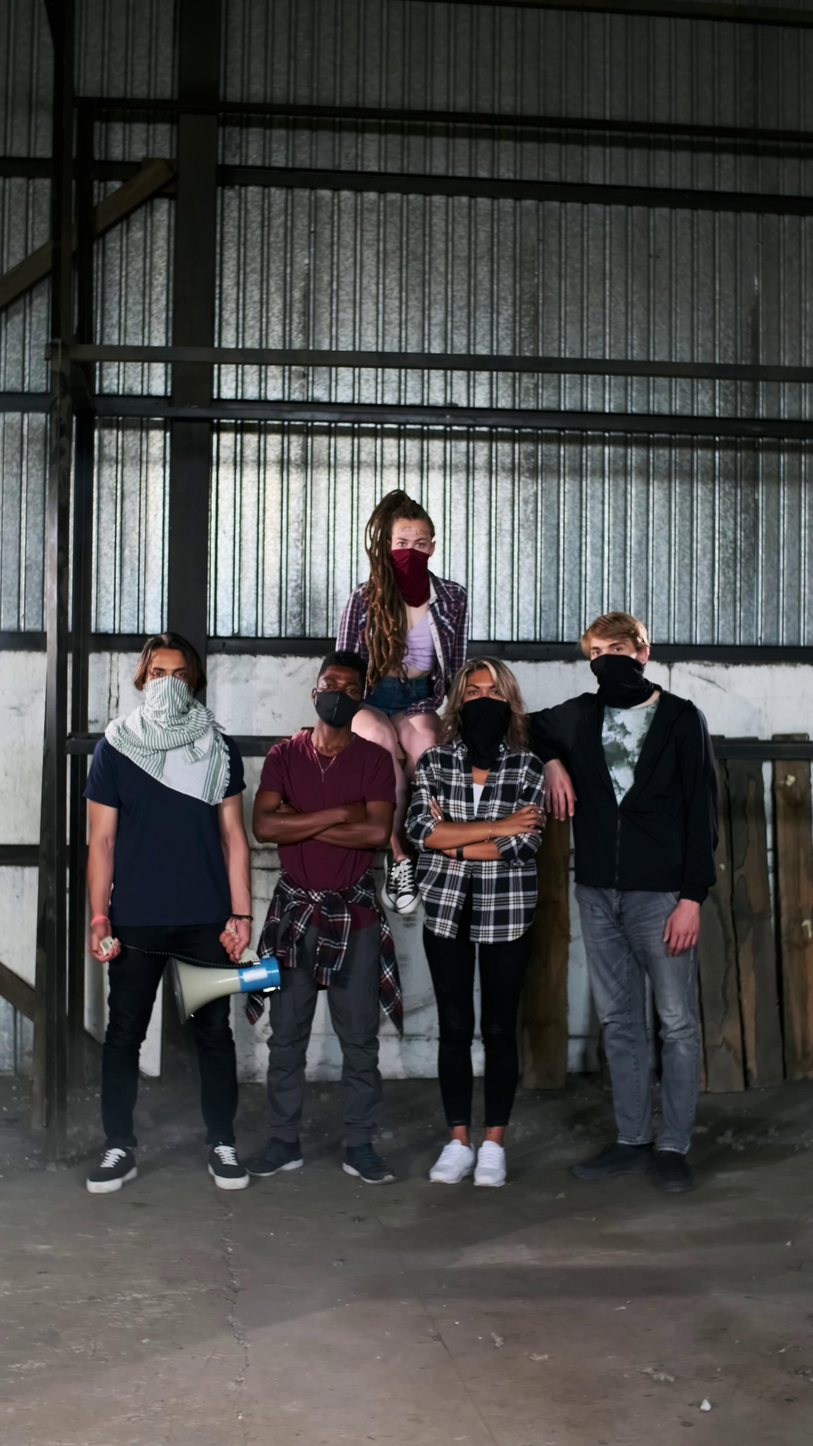mask: (458, 696, 513, 771), (589, 653, 660, 709), (140, 676, 198, 725), (388, 547, 431, 607), (313, 689, 365, 728)
person: (524, 609, 725, 1197), (78, 630, 253, 1197), (243, 650, 406, 1186), (403, 657, 547, 1191), (335, 487, 469, 915)
